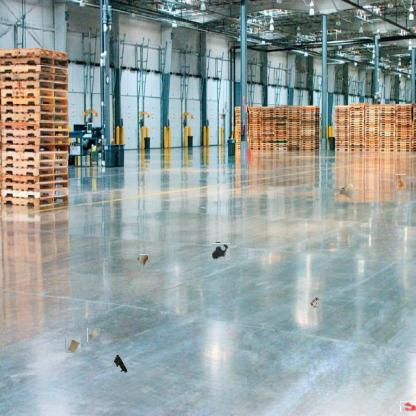dirty: (337, 180, 359, 202), (112, 355, 130, 375), (308, 294, 322, 312), (66, 338, 80, 352), (87, 329, 101, 342), (394, 174, 406, 189), (138, 255, 149, 266)
liquid: (213, 243, 230, 260), (400, 401, 416, 412)
